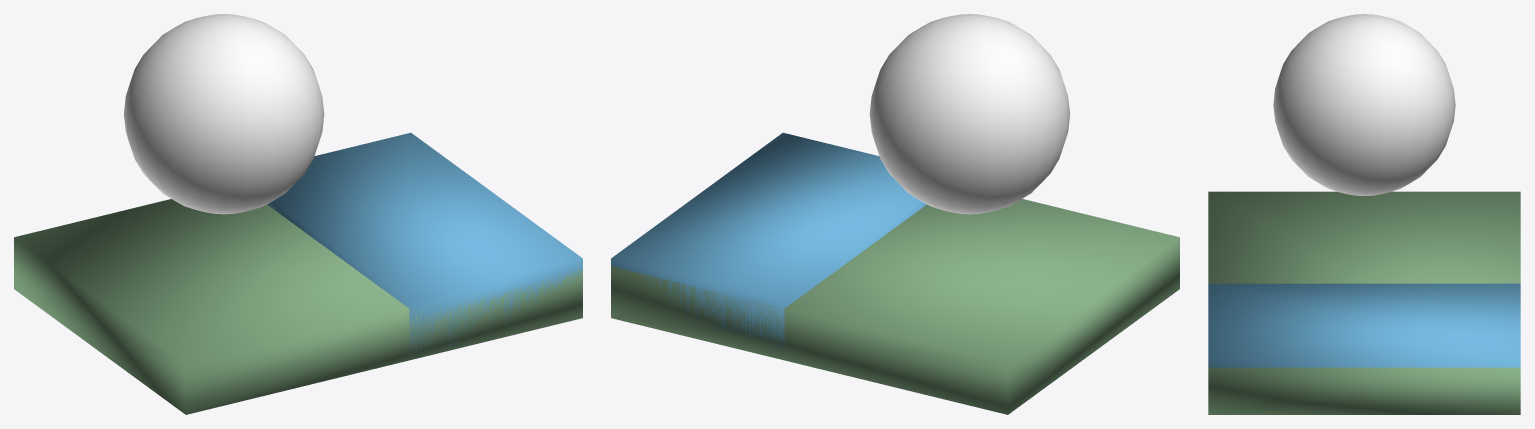
The model's file is water_cycle.glb.
3 views of the same model, side by side, from view 1: azimuth 30°, elevation 25°; view 2: azimuth 150°, elevation 25°; view 3: azimuth 270°, elevation 25° (orthographic). The views are drawn at different scales.
Visible parts, largest first — view 1: land, ocean, cloud; view 2: land, ocean, cloud; view 3: land, ocean, cloud.
Part boxes in pixels (<box>): land: <box>14,199,582,414</box>; ocean: <box>267,132,582,356</box>; cloud: <box>124,14,324,214</box>; land: <box>611,199,1179,414</box>; ocean: <box>611,132,926,354</box>; cloud: <box>869,14,1069,214</box>; land: <box>1208,191,1520,414</box>; ocean: <box>1208,283,1520,367</box>; cloud: <box>1273,14,1455,195</box>.
Bounding box in the file's own units: 1.6 × 1.15 × 1.2.
